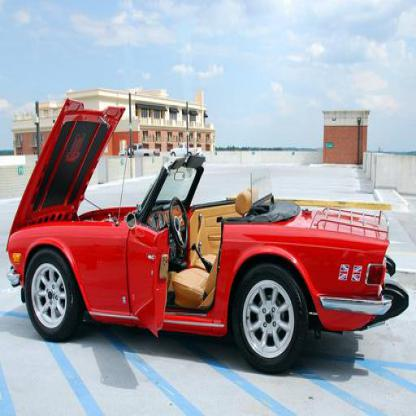Tire: (231, 262, 309, 376), (25, 247, 82, 342)
